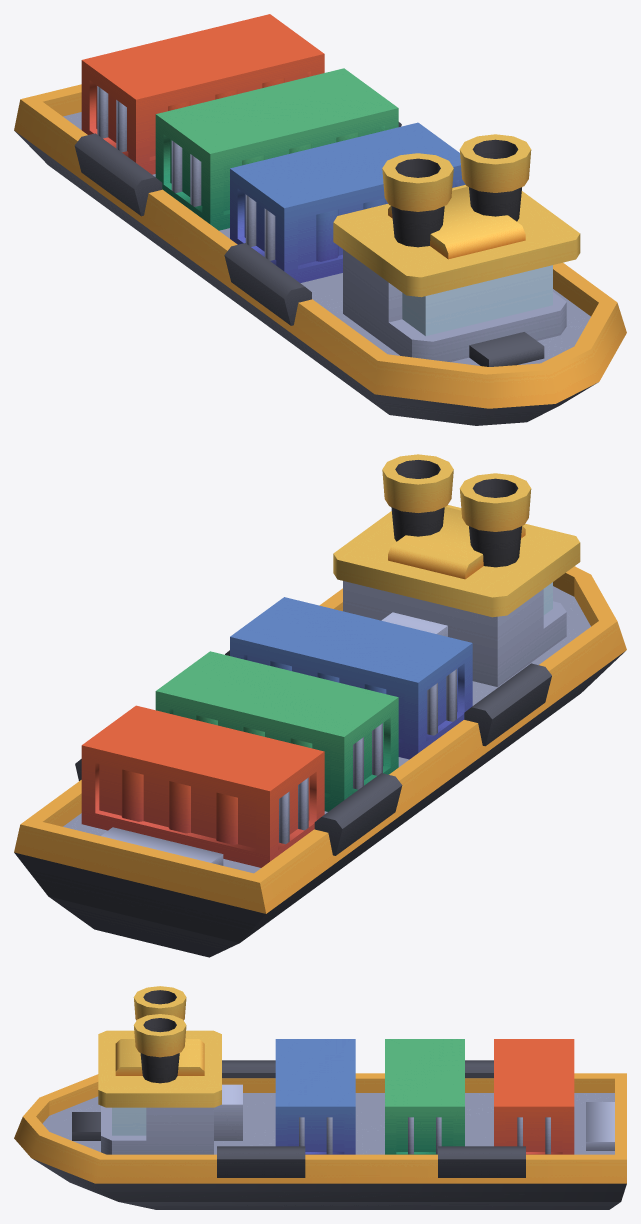
Rendered from ship_cargo_a.glb.
The picture shows the model from 3 angles, top to bottom: view 1: azimuth 30°, elevation 25°; view 2: azimuth 150°, elevation 25°; view 3: azimuth 270°, elevation 25°; orthographic projection. The views are drawn at different scales.
Visible parts, largest first — view 1: ship-cargo-a, cargo-b, cargo-c, cargo-a; view 2: ship-cargo-a, cargo-c, cargo-a, cargo-b; view 3: ship-cargo-a, cargo-a, cargo-c, cargo-b.
Boxes of the visible parts, x1=… form: ship-cargo-a: x1=14, y1=84, x2=626, y2=425; cargo-b: x1=155, y1=68, x2=398, y2=230; cargo-c: x1=81, y1=14, x2=324, y2=174; cargo-a: x1=230, y1=122, x2=465, y2=282; ship-cargo-a: x1=14, y1=454, x2=626, y2=957; cargo-c: x1=81, y1=705, x2=324, y2=867; cargo-a: x1=230, y1=597, x2=472, y2=759; cargo-b: x1=155, y1=651, x2=398, y2=811; ship-cargo-a: x1=14, y1=986, x2=626, y2=1209; cargo-a: x1=275, y1=1039, x2=355, y2=1154; cargo-c: x1=494, y1=1039, x2=574, y2=1154; cargo-b: x1=385, y1=1039, x2=464, y2=1154.
Size of the model in its own units: 3.92 by 3.38 by 10.55.
1 material, 1 textured.
